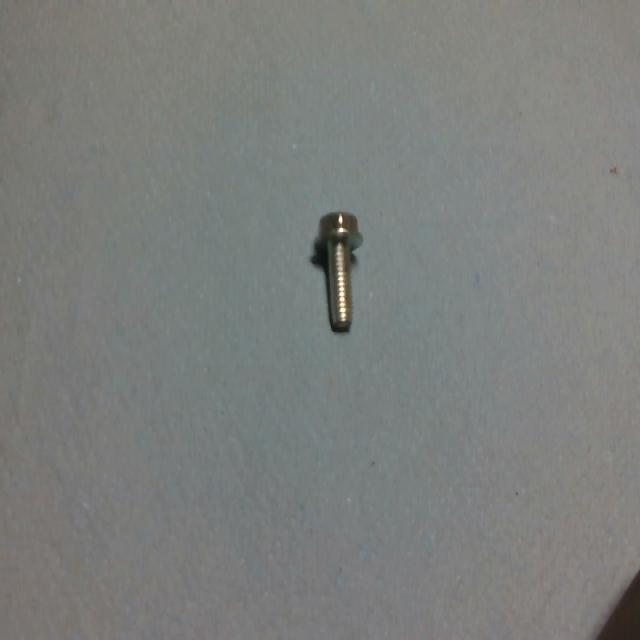Bolt: (313, 209, 368, 336)
